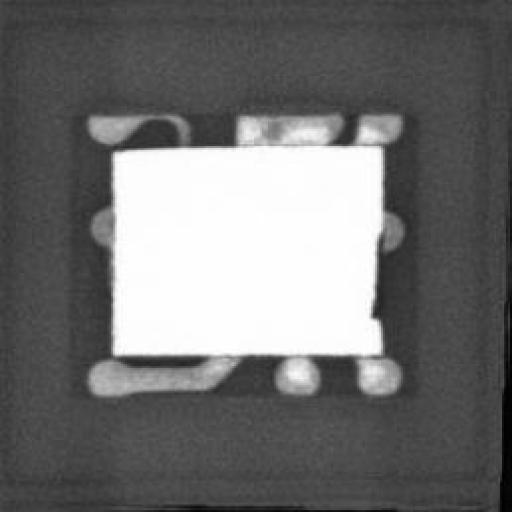DIE_BROKEN: (367, 230, 383, 320)
